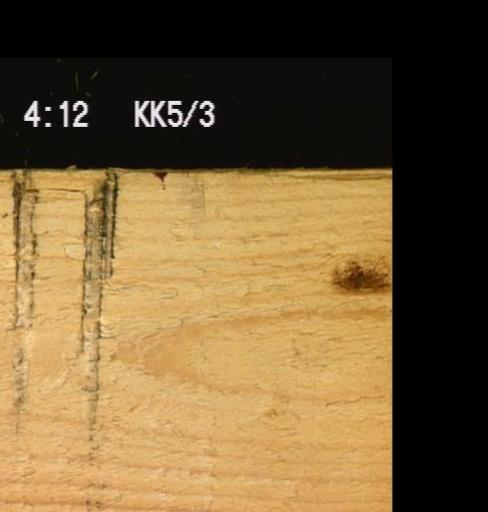wave: (232, 165, 391, 180)
